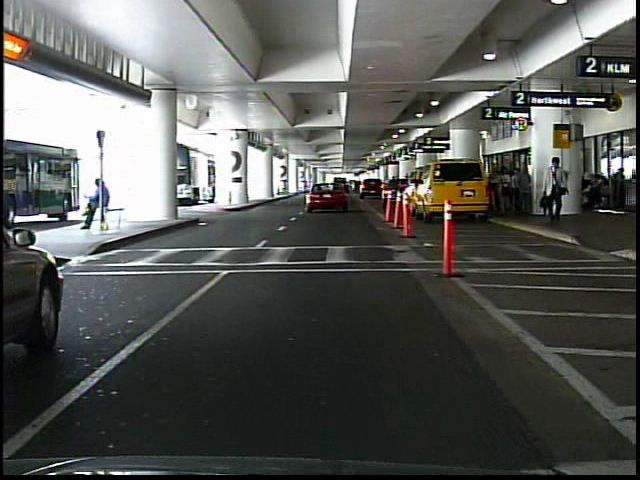person: (540, 157, 570, 226), (516, 163, 535, 219), (499, 165, 515, 217)
